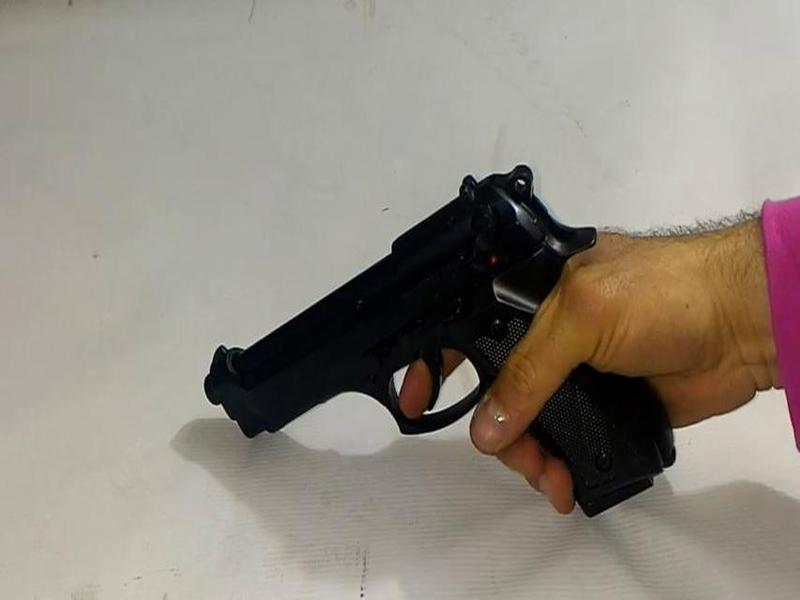Pistola: (168, 162, 697, 534)
